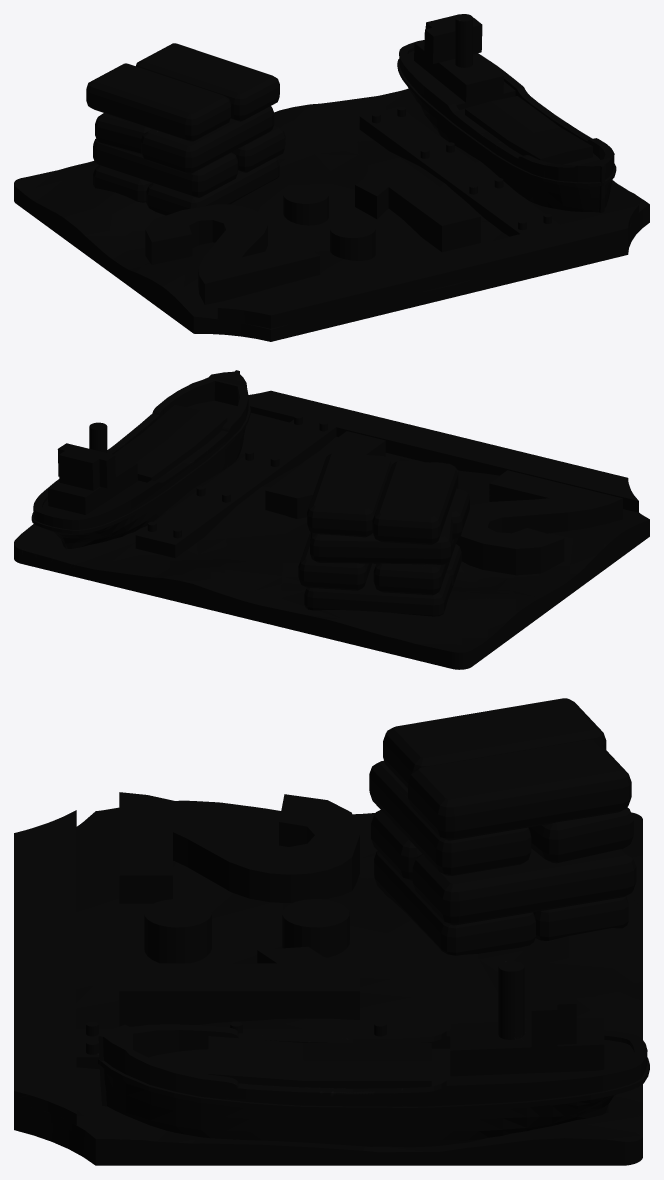
Rendered from BrickPort.fbx.
3 renders of one model, top to bottom at view 1: azimuth 30°, elevation 25°; view 2: azimuth 150°, elevation 25°; view 3: azimuth 270°, elevation 25°, orthographic. The views are drawn at different scales.
Parts seen in each view (by area): view 1: node_id3; view 2: node_id3; view 3: node_id3.
Boxes of the visible parts, x1=… form: node_id3: x1=14, y1=14, x2=649, y2=341; node_id3: x1=14, y1=370, x2=649, y2=669; node_id3: x1=14, y1=698, x2=649, y2=1165.
Size of the model in its own units: 0.512 by 0.1309 by 0.4181.
1 material, 1 textured.
